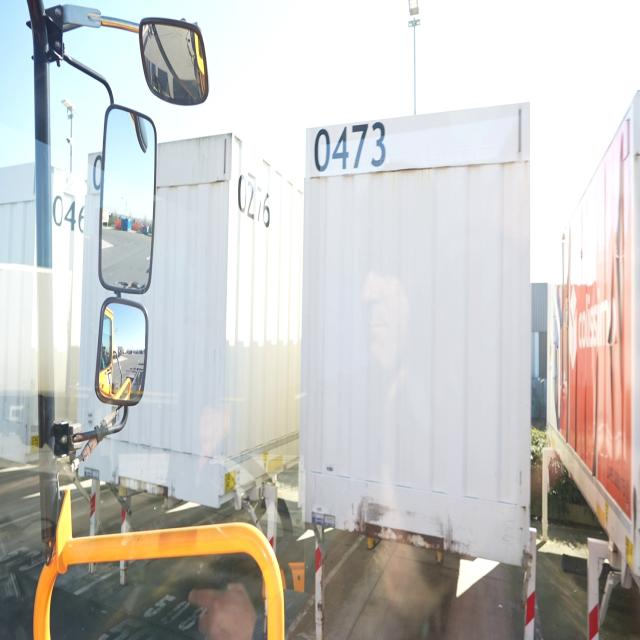Code: (311, 118, 388, 176)
